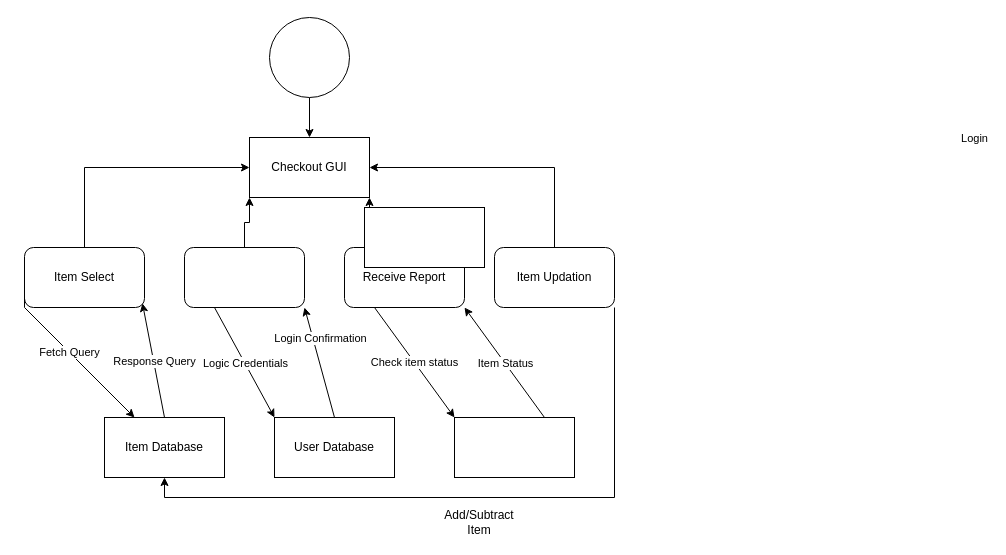
The diagram is 1006 pixels wide and 555 high, and some of its shapes have lost their labels. The centre of each missing label's shape, as x and y in pixels:
Authentication: [244,277]
Inventory Management System: [309,57]
Item Borrowed Database: [514,447]
